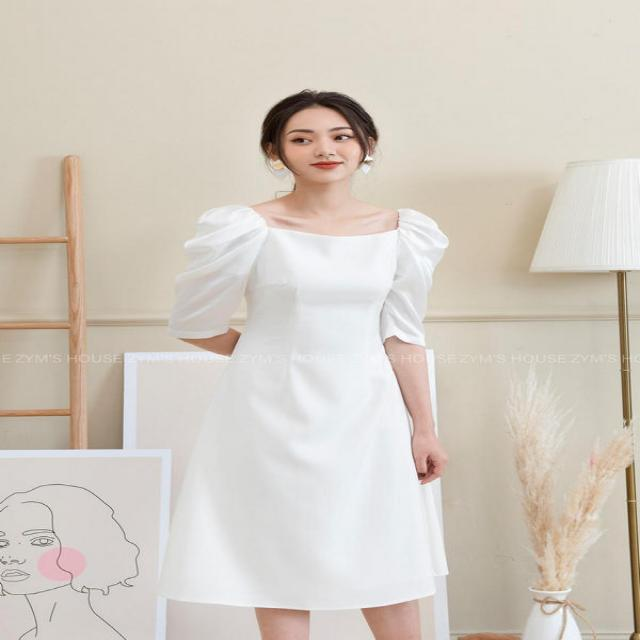clothes: (154, 199, 455, 614)
